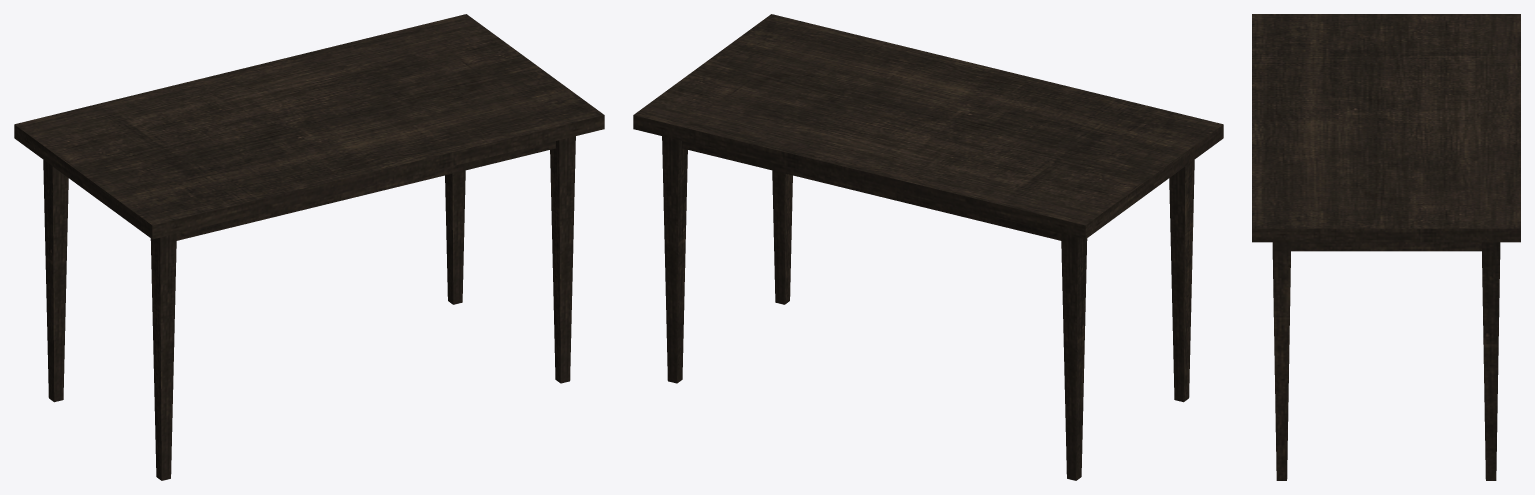
The model's file is table_large_2_2.obj.
3 views of the same model, side by side, from view 1: azimuth 30°, elevation 25°; view 2: azimuth 150°, elevation 25°; view 3: azimuth 270°, elevation 25° (orthographic). The views are drawn at different scales.
Parts seen in each view (by area): view 1: table_large_2_2; view 2: table_large_2_2; view 3: table_large_2_2.
Boxes of the visible parts, x1=… form: table_large_2_2: x1=14, y1=14, x2=604, y2=480; table_large_2_2: x1=633, y1=14, x2=1223, y2=480; table_large_2_2: x1=1252, y1=14, x2=1520, y2=480.
Bounding box in the file's own units: 1.7 × 0.97 × 0.9.
